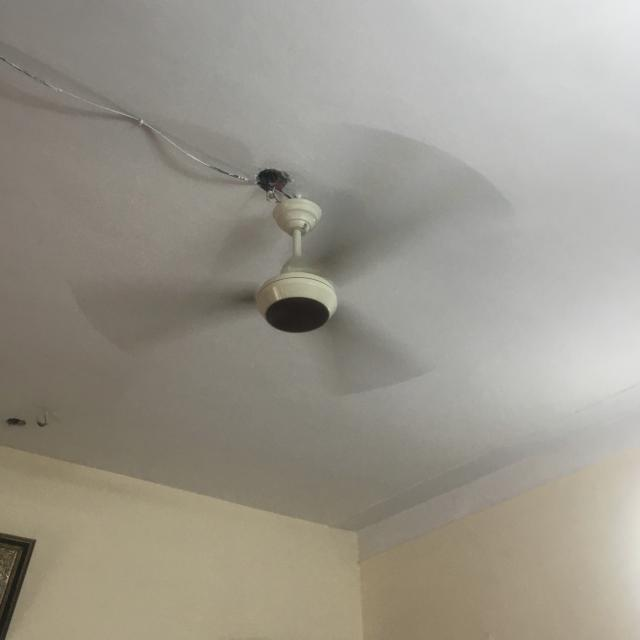on: (65, 114, 520, 404)
